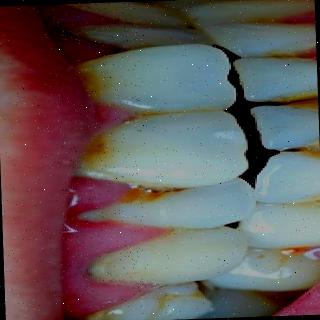Gum Swelling: (67, 166, 143, 320), (51, 2, 117, 65)
stains: (118, 184, 177, 210), (282, 94, 320, 126), (281, 239, 317, 265), (268, 45, 311, 65), (254, 15, 300, 28)
